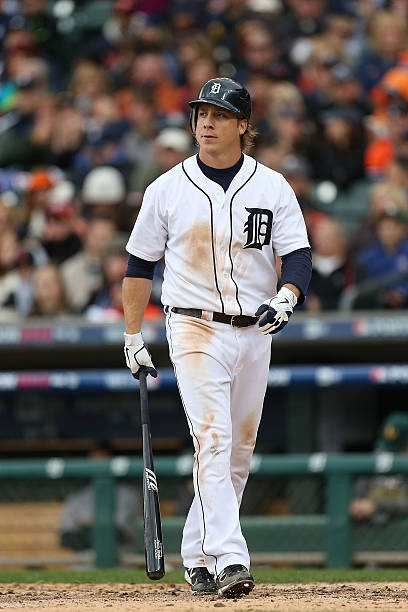bita: (133, 356, 161, 575)
